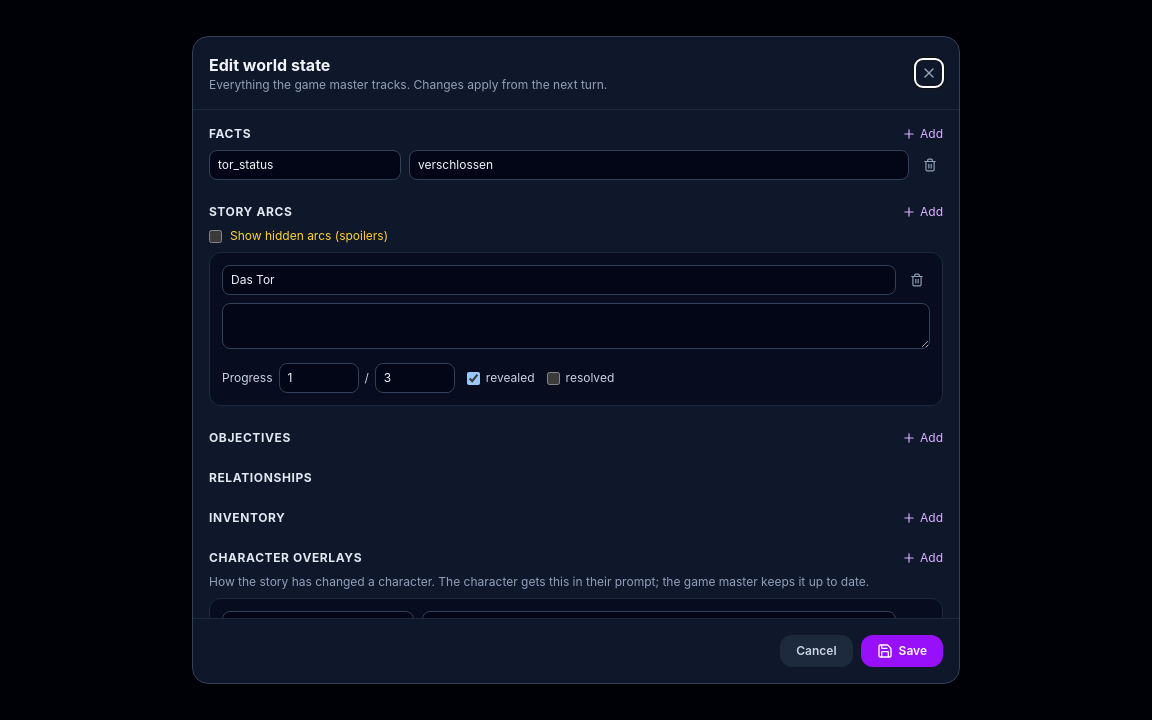
Test: stage world editor › hides unrevealed arcs until the spoiler switch is on
The width and height of the screenshot is (1152, 720).
Expected: the field showing "HIDDEN_TRAITOR" is not shown
Click the checkbox labelled "Show hidden arcs (spoilers)". click: (216, 236)
box: top-left (209, 230), bottom-right (222, 242)
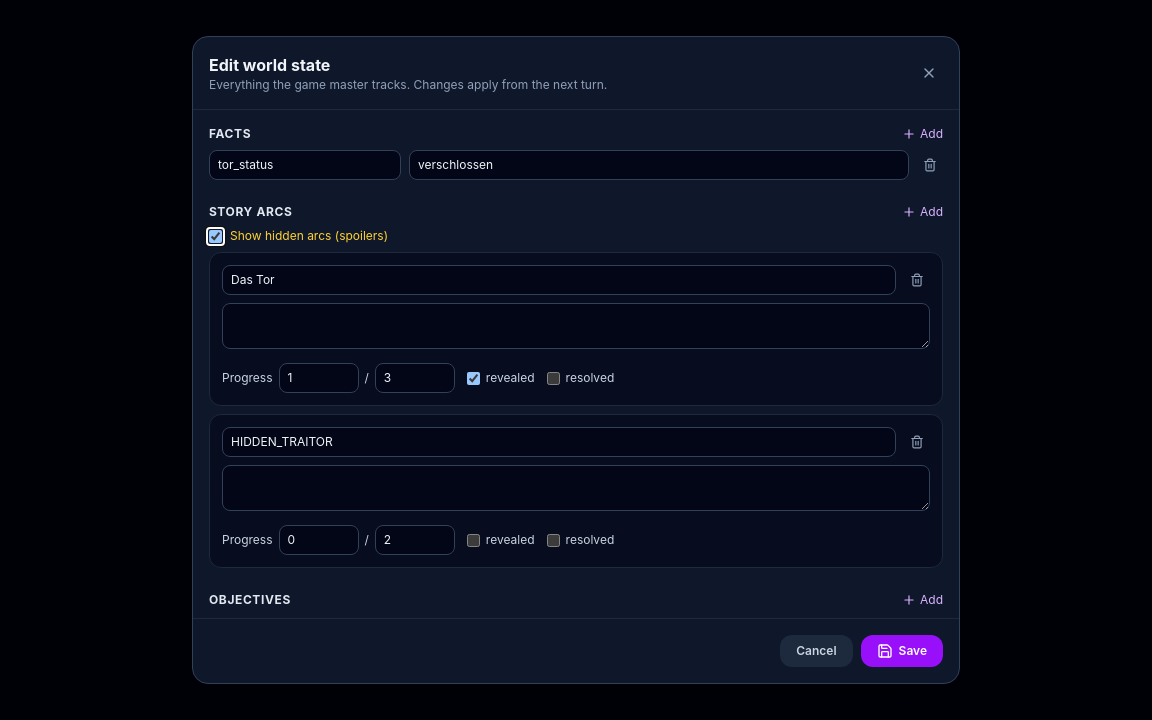
Expected: the 2nd field showing "HIDDEN_TRAITOR" is shown, top-left (222, 427), bottom-right (896, 457)
